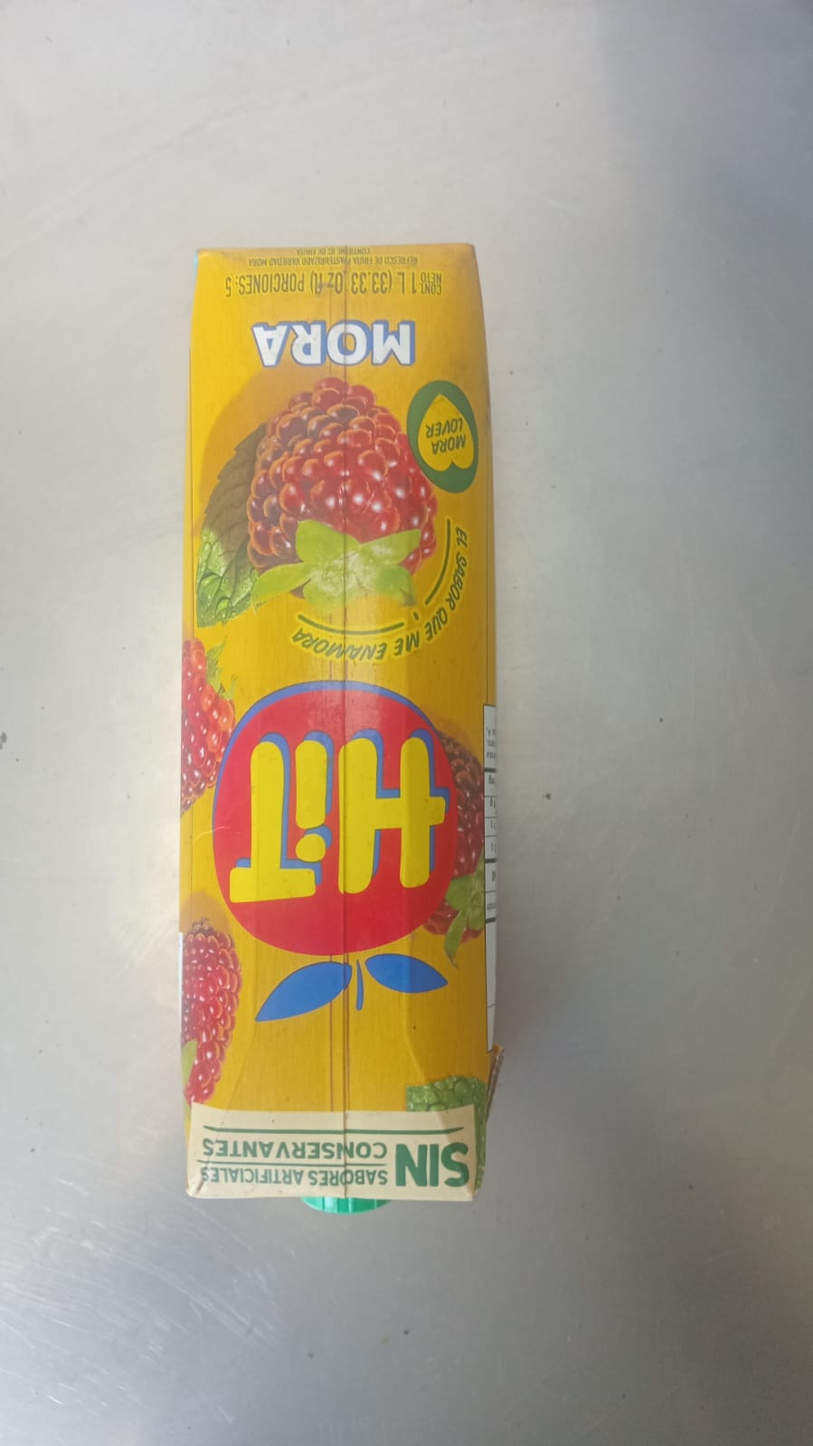Carton: (182, 246, 498, 1202)
